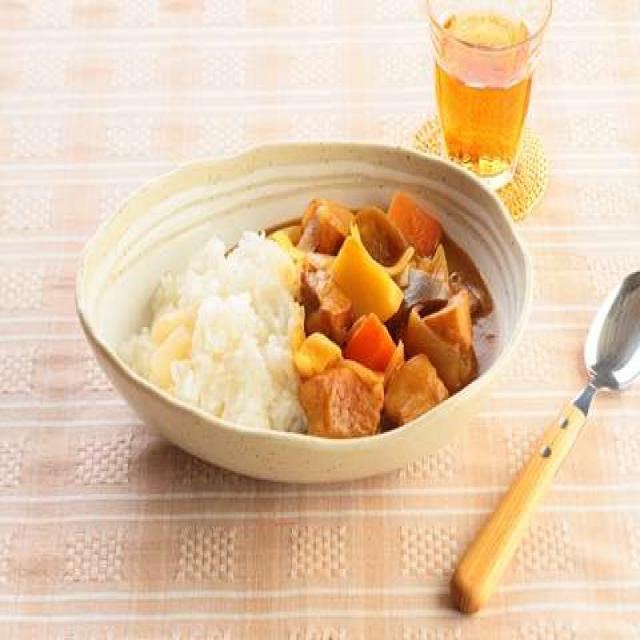Wet: (118, 181, 498, 439)
